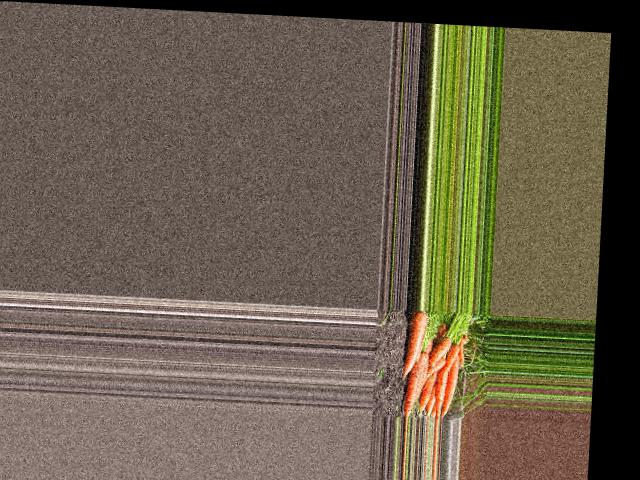carrot: (435, 341, 459, 420)
